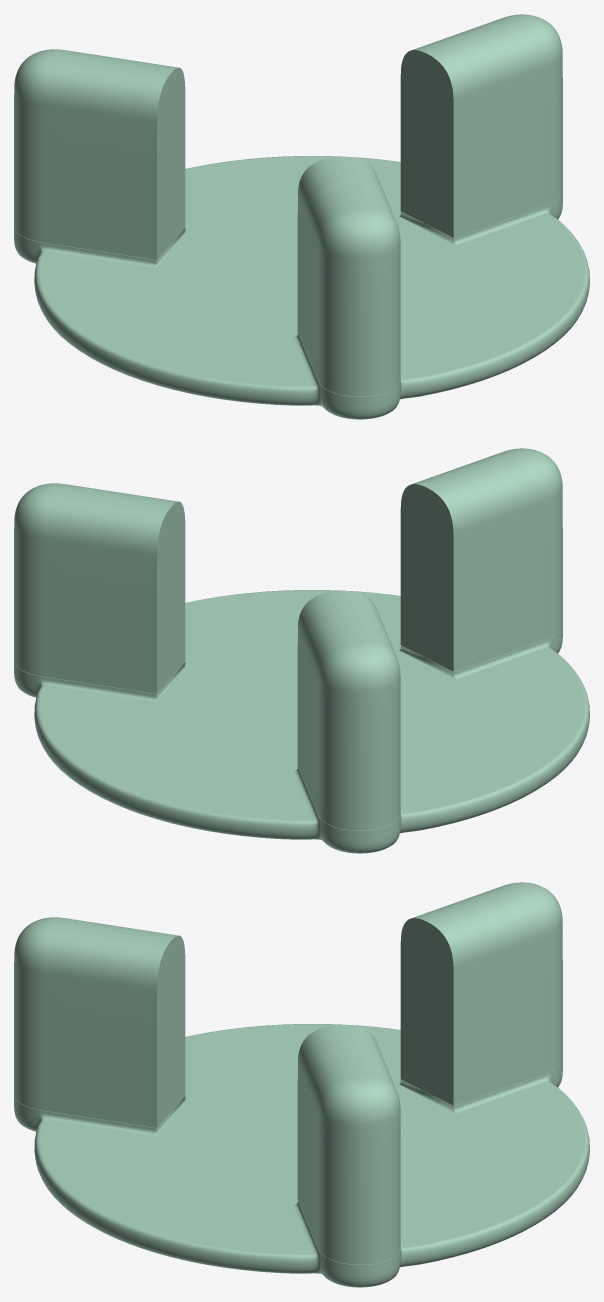
Rendered from bake.glb.
3 views of the same model, one above another, from view 1: azimuth 30°, elevation 25°; view 2: azimuth 150°, elevation 25°; view 3: azimuth 270°, elevation 25° (orthographic).
Parts seen in each view (by area): view 1: Bone_table_small001; view 2: Bone_table_small001; view 3: Bone_table_small001.
Boxes of the visible parts, x1,y1,x2,y2 form: Bone_table_small001: [14, 14, 589, 419]; Bone_table_small001: [14, 448, 589, 853]; Bone_table_small001: [14, 882, 589, 1287].
Bounding box in the file's own units: 0.9204 × 0.3405 × 0.9013.
